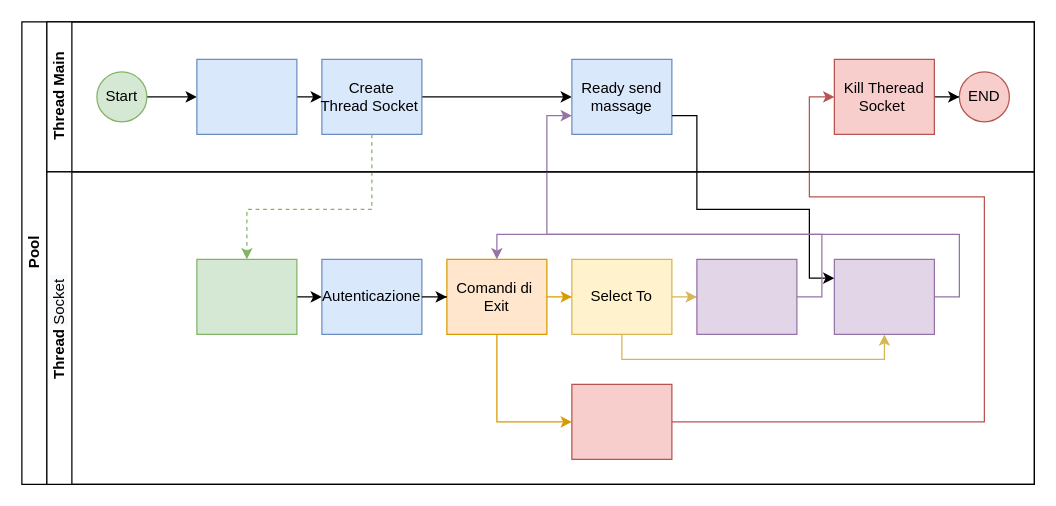
Image size: 1056x506. Some labels were removed from this diagram. Here are the shapes that lost their labels. From the top down, the box of each, then its label:
(196, 58, 297, 134): Preparazione main Set VAR GLOBAL
(196, 258, 297, 334): Setup MainSocket
(696, 258, 797, 334): Receive To Message
(833, 258, 934, 334): Send To Message
(571, 383, 672, 459): Close Socket
